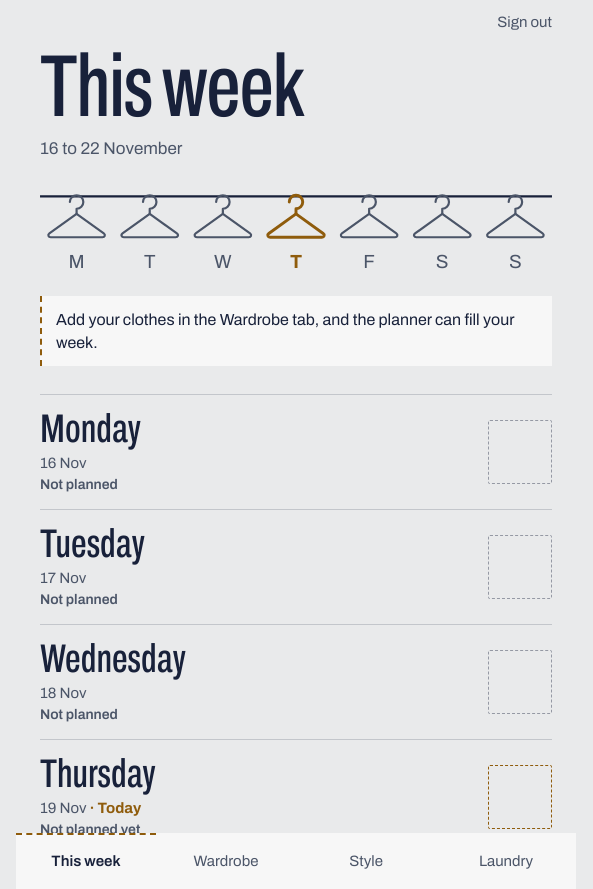
it: when signed in › opens the Style tab for adding inspiration
Click the link "Style": (366, 861) [349,853,383,869]
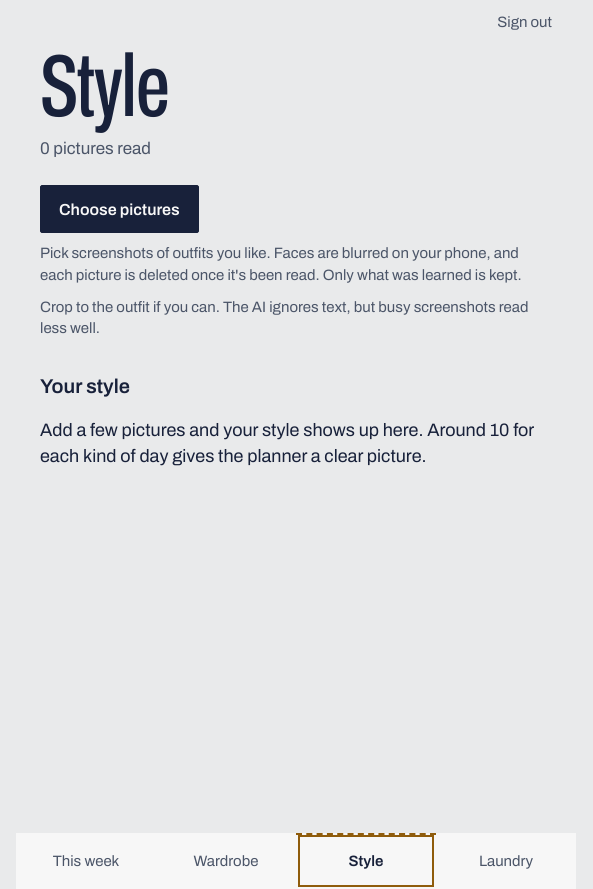
Result: the heading "Style" is shown at [40,39,169,134]
Result: the file field labelled "Choose pictures" is shown at [40,185,199,233]
